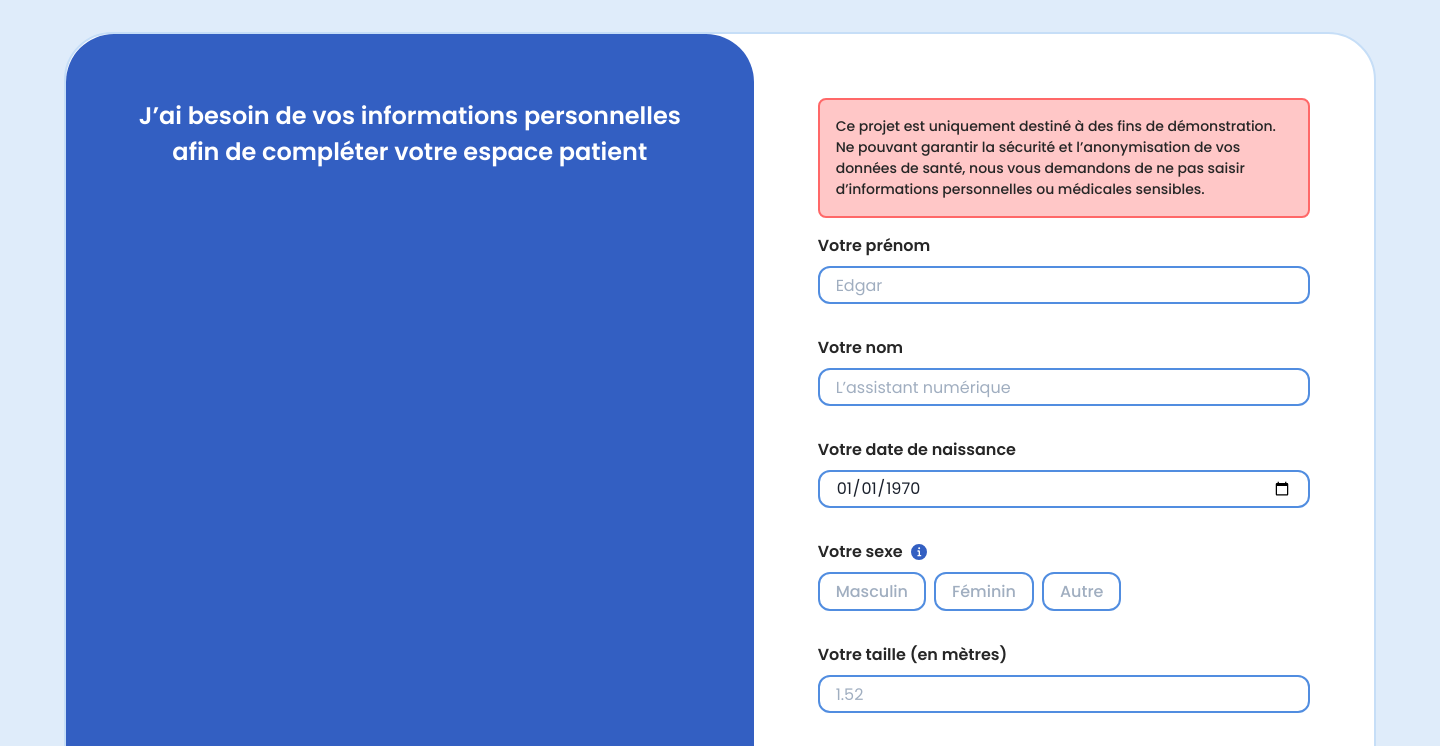
Test: Personal Info Page tests - Desktop › Working page › Error states › Bad birthdate (too young)
In the date field with id "edgar-onboardingPersonalPage-formBirthdate-input": (1064, 489) [818,470,1310,508], type "2500-01-01"
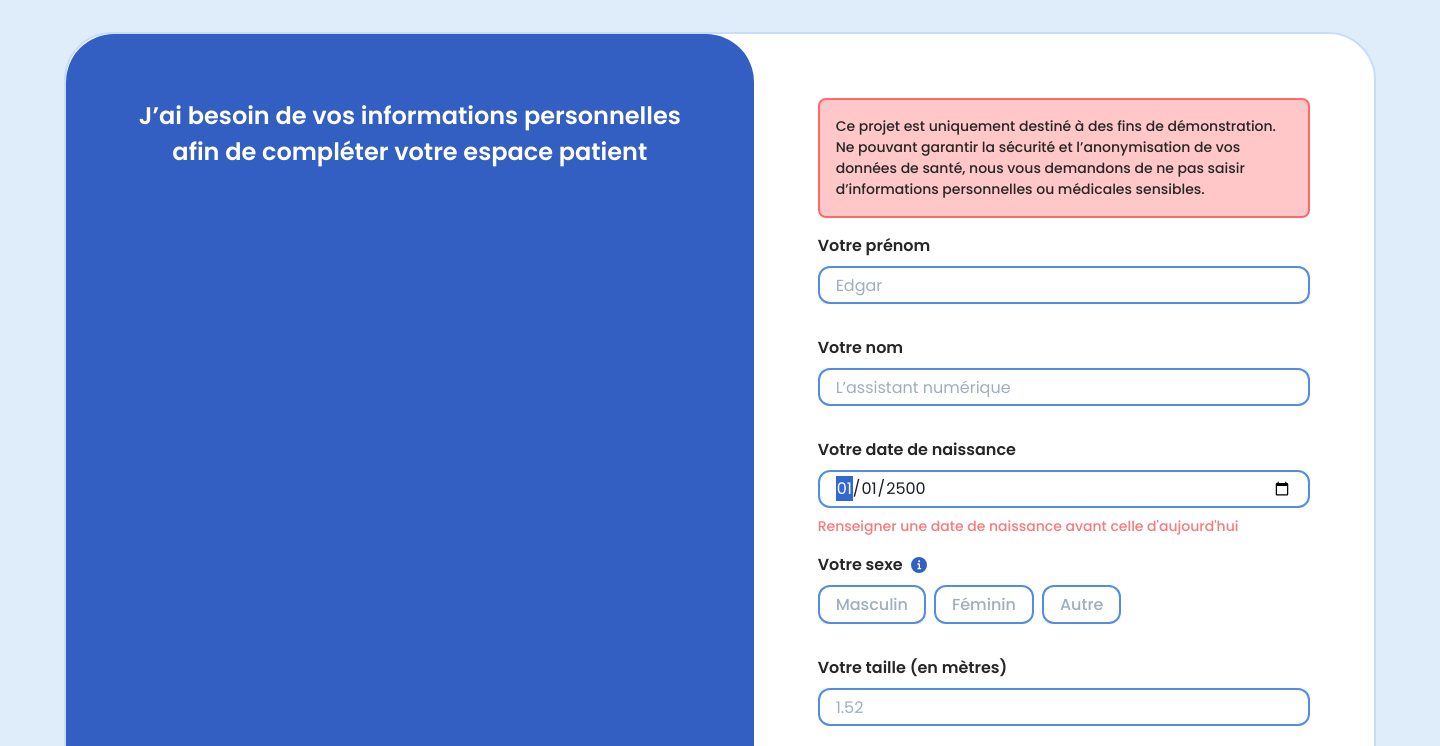
Result: the text "Renseigner une date de naissance avant celle d'aujourd'hui" is shown at [818,516,1238,537]
Result: the text with id "edgar-onboardingPersonalPage-formBirthdateErrorMax-text" reads "Renseigner une date de naissance avant celle d'aujourd'hui" at [818,516,1239,537]
